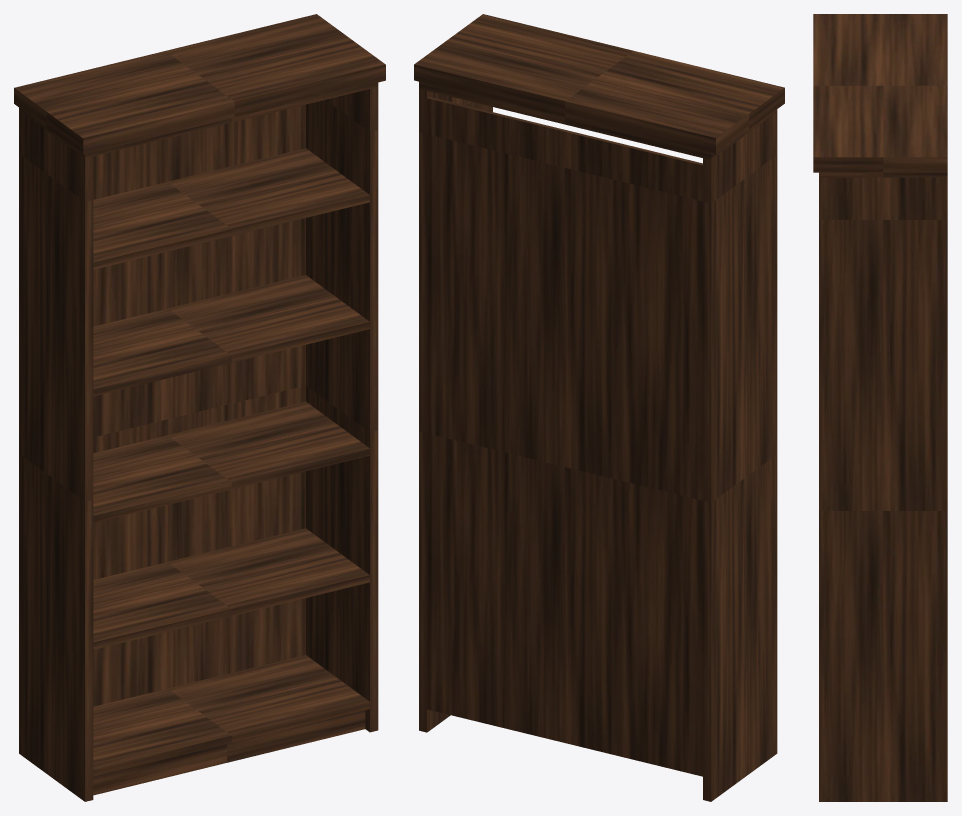
The model's file is obj-bookcase-walnut-library.glb.
3 views of the same model, side by side, from view 1: azimuth 30°, elevation 25°; view 2: azimuth 150°, elevation 25°; view 3: azimuth 270°, elevation 25° (orthographic). The views are drawn at different scales.
Visible parts, largest first — view 1: obj-bookcase-walnut-library; view 2: obj-bookcase-walnut-library; view 3: obj-bookcase-walnut-library.
Boxes of the visible parts, x1,y1,x2,y2 form: obj-bookcase-walnut-library: (14, 14, 385, 801); obj-bookcase-walnut-library: (414, 14, 784, 801); obj-bookcase-walnut-library: (813, 14, 947, 801).
Bounding box in the file's own units: 0.95 × 2 × 0.376.
Materials: 1 (1 with a texture image).
